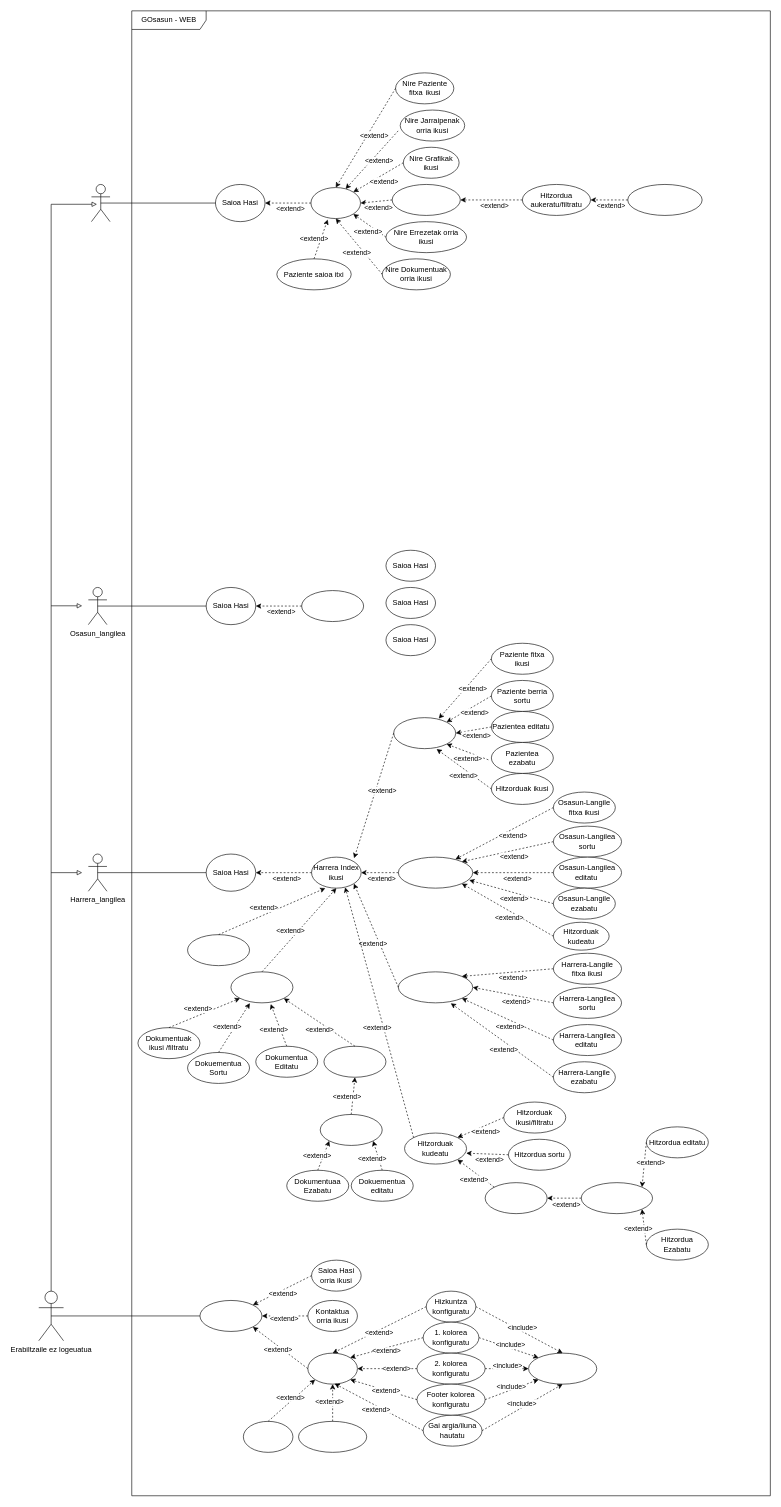
Some shapes in this 781 by 1507 pixel diagram are drawn without their labels. The shapes that lost their labels are listed below. From the top down, each one's box as (x1, y1, x2, y2) in pixels, then its label:
(91, 184, 110, 222): Pazientea
(310, 187, 361, 219): Paziente index ikusi
(392, 184, 460, 215): Nire Hitzorduak ikusi
(627, 184, 702, 215): Nire Hitzordu fitxa ikusi
(301, 590, 364, 622): Osasun_langile index ikusi
(393, 717, 456, 749): Pazienteak kudeatu
(398, 857, 473, 888): Osasun-Langileak kudeatu
(187, 934, 250, 966): Harrera Saioa Itxi
(230, 971, 293, 1003): Dokumentuak kudeatu
(398, 971, 473, 1003): Harrera-Langileak kudeatu
(323, 1046, 386, 1077): Dokumentua aukeratu
(320, 1114, 382, 1145): Dokumentu fitxa ikusi
(485, 1182, 547, 1214): Hitzordua aukeratu
(581, 1182, 653, 1214): Hitzordu fitxa ikusi
(199, 1300, 262, 1331): Hasiera orria index ikusi
(307, 1353, 357, 1384): Ezarpenak (sesioan)
(528, 1353, 597, 1384): Gorde Ezarpenak Sesioan
(243, 1421, 293, 1452): Itxi Ezarpenak
(298, 1421, 367, 1452): Berreskuratu ezarpen balioak sesioan
